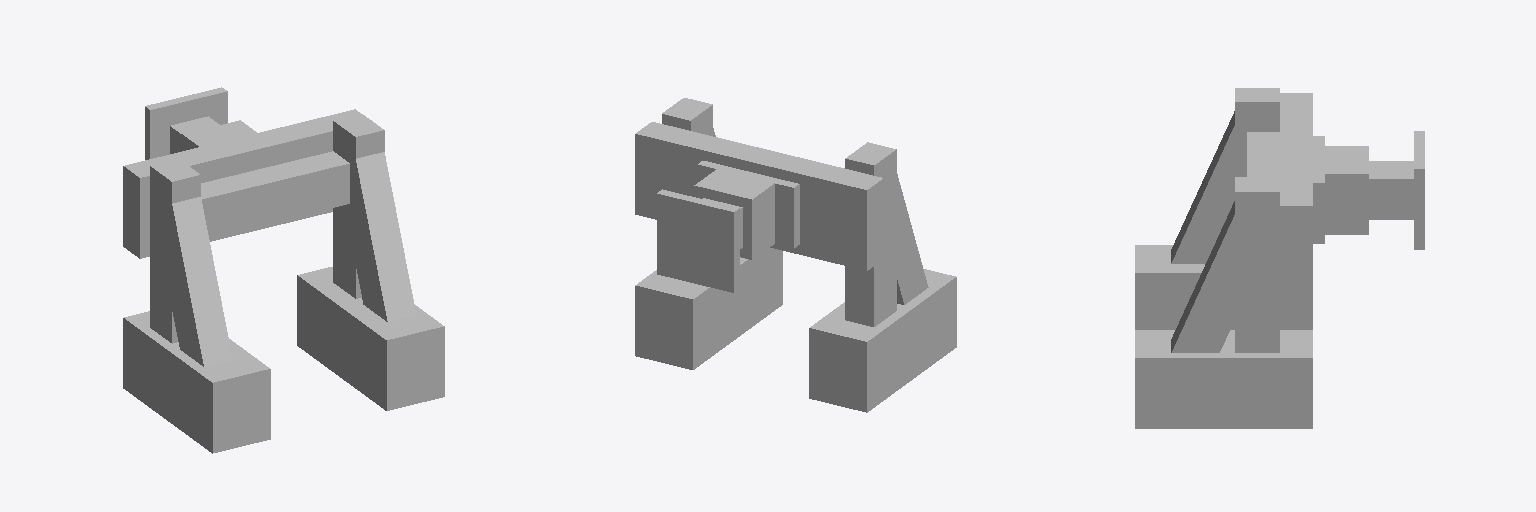
File: monorail_mono_buffer_stop.obj
The picture shows the model from 3 angles: view 1: azimuth 30°, elevation 25°; view 2: azimuth 150°, elevation 25°; view 3: azimuth 270°, elevation 25°; orthographic projection.
Visible parts, largest first — view 1: cube.012, cube.011, cube, cube.008, cube.010, cube.006, cube.007, cube.009, cube.005, cube.001, cube.004, cube.002; view 2: cube.011, cube.012, cube.006, cube.001, cube.005, cube.007, cube.004, cube.003, cube.008, cube.009; view 3: cube.012, cube.009, cube.011, cube.010, cube.005, cube.008, cube.004, cube.002, cube.007, cube.006, cube, cube.001 (+1 smaller).
Part boxes in pixels (x1,y1,x2,y2): cube.012: (297, 267, 444, 410); cube.011: (123, 311, 270, 453); cube: (201, 151, 349, 237); cube.008: (172, 197, 232, 366); cube.010: (356, 152, 415, 321); cube.006: (123, 138, 255, 258); cube.007: (150, 159, 200, 343); cube.009: (333, 114, 384, 298); cube.005: (239, 109, 360, 230); cube.001: (145, 87, 227, 159); cube.004: (182, 120, 256, 150); cube.002: (170, 116, 219, 153); cube.011: (809, 269, 956, 412); cube.012: (635, 248, 782, 369); cube.006: (751, 150, 883, 270); cube.001: (657, 189, 739, 292); cube.005: (635, 122, 766, 219); cube.007: (845, 142, 896, 326); cube.004: (694, 169, 774, 259); cube.003: (697, 161, 799, 248); cube.008: (897, 174, 928, 304); cube.009: (662, 98, 712, 135); cube.012: (1135, 330, 1312, 428); cube.009: (1235, 177, 1279, 352); cube.011: (1135, 245, 1312, 329); cube.010: (1171, 201, 1234, 352); cube.005: (1280, 150, 1312, 286); cube.008: (1171, 111, 1234, 263); cube.004: (1325, 146, 1368, 234); cube.002: (1369, 161, 1413, 219); cube.007: (1235, 88, 1279, 176); cube.006: (1280, 93, 1312, 149); cube: (1247, 132, 1279, 176); cube.001: (1414, 131, 1424, 249).
Bounding box in the file's own units: 1.5 × 1.44 × 1.62.